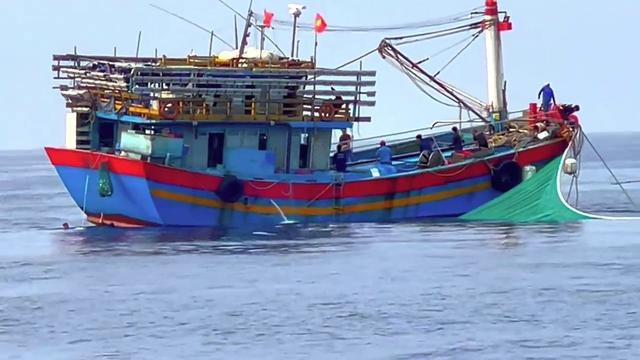Ship: (43, 14, 585, 243)
